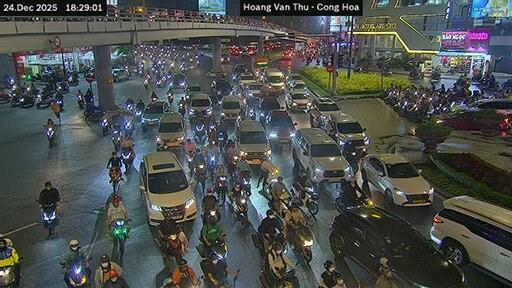motorbike: (250, 230, 285, 256), (288, 225, 312, 261), (333, 189, 371, 211), (259, 265, 298, 286), (160, 232, 186, 261), (291, 187, 317, 215), (196, 238, 227, 260), (230, 189, 248, 225), (112, 217, 128, 256), (0, 252, 18, 286), (268, 193, 290, 217), (204, 271, 236, 287), (67, 262, 88, 286), (342, 149, 364, 171), (42, 203, 57, 235), (214, 175, 227, 201), (109, 166, 121, 193), (121, 147, 133, 171), (237, 171, 249, 194), (194, 163, 204, 189), (202, 207, 220, 221), (207, 154, 216, 180), (194, 121, 204, 144), (19, 94, 35, 107), (112, 129, 121, 151), (9, 91, 22, 106), (35, 94, 51, 106), (45, 126, 54, 147), (99, 117, 109, 135), (185, 151, 194, 171), (217, 130, 226, 148), (124, 121, 134, 136), (134, 104, 144, 118), (201, 260, 210, 274), (76, 94, 85, 108), (0, 90, 10, 102), (57, 81, 67, 93), (54, 98, 63, 109), (178, 103, 185, 116), (124, 102, 133, 112), (246, 108, 255, 118), (431, 72, 440, 81), (502, 79, 511, 88), (69, 75, 77, 85), (355, 66, 368, 72), (166, 90, 172, 103), (409, 72, 419, 79), (150, 94, 156, 102), (143, 78, 147, 89), (156, 79, 162, 86), (166, 262, 169, 265), (236, 269, 239, 271), (403, 113, 405, 115)
